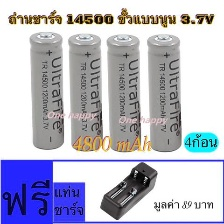battery: (144, 28, 183, 155), (104, 31, 142, 153), (28, 29, 65, 152), (67, 32, 102, 154)
